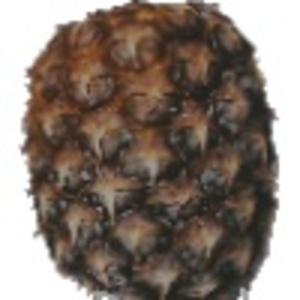abacaxi: (20, 5, 285, 299)
